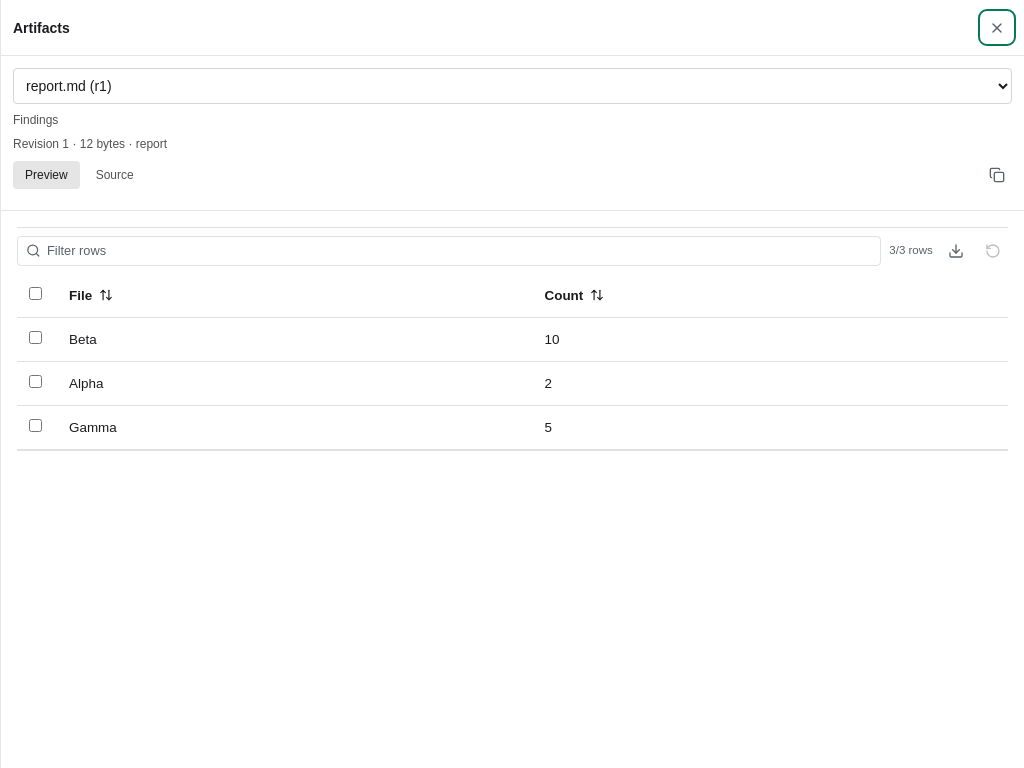
Scenario: ArtifactWorkspace › provides table controls without enabling links or images in artifacts
Click the button with aria-label "Sort by Count". click: [564, 295]
box: [544,284,996,307]
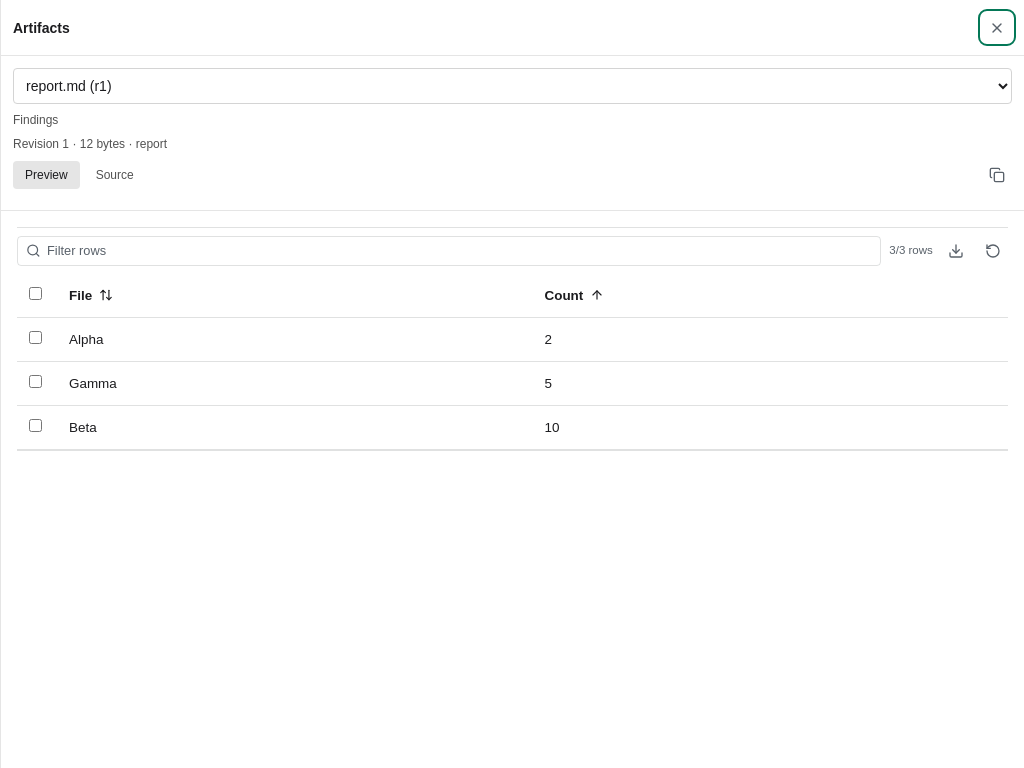
Check: the row "Alpha 2" is shown, box [17,317,1008,361]
Type "Beta" into the search field. click: [460, 251]
box: [47,240,872,262]
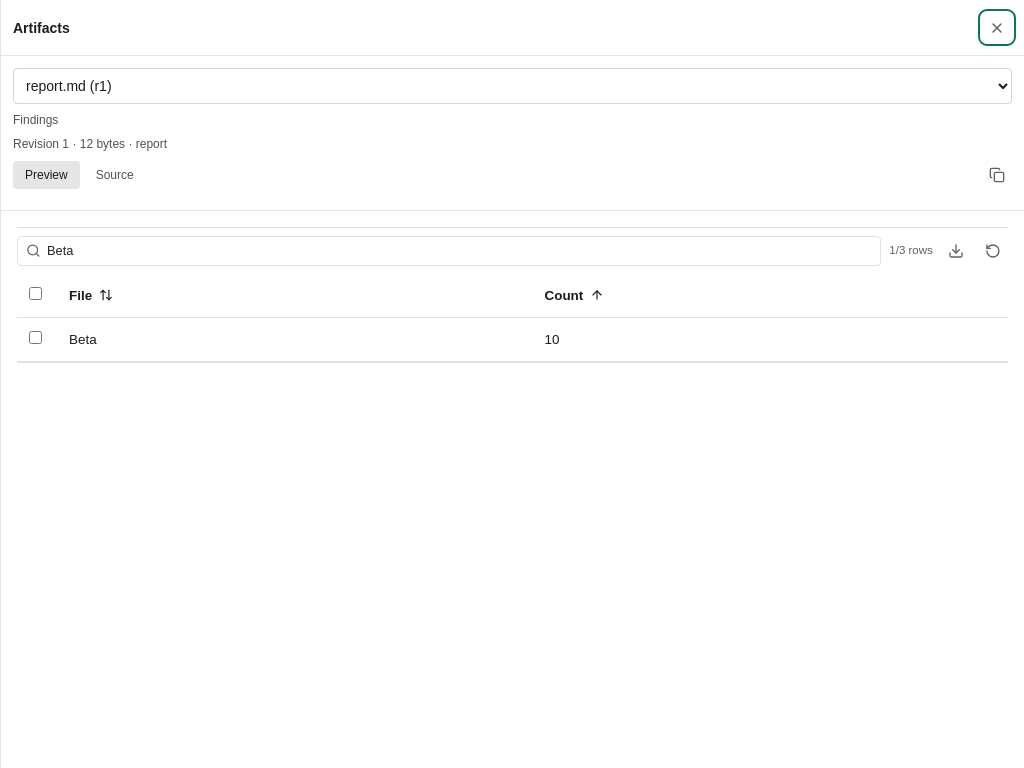
Check: the text "Alpha" is gone
